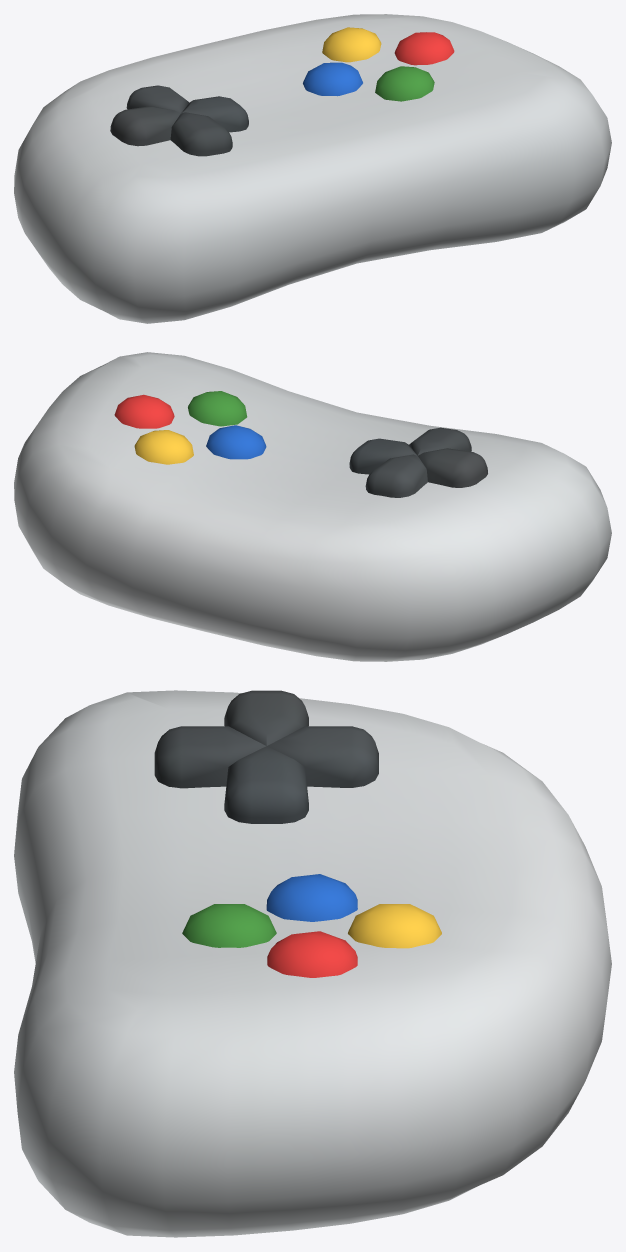
The model's file is GameConsole_01.fbx.
The picture shows the model from 3 angles, top to bottom: view 1: azimuth 30°, elevation 25°; view 2: azimuth 150°, elevation 25°; view 3: azimuth 270°, elevation 25°; orthographic projection. The views are drawn at different scales.
Parts seen in each view (by area): view 1: GameConsole_01; view 2: GameConsole_01; view 3: GameConsole_01.
Boxes of the visible parts, bbox=[...] form: GameConsole_01: bbox=[14, 14, 611, 323]; GameConsole_01: bbox=[14, 352, 611, 661]; GameConsole_01: bbox=[14, 690, 611, 1237].
Size of the model in its own units: 0.2114 by 0.0626 by 0.1314.
